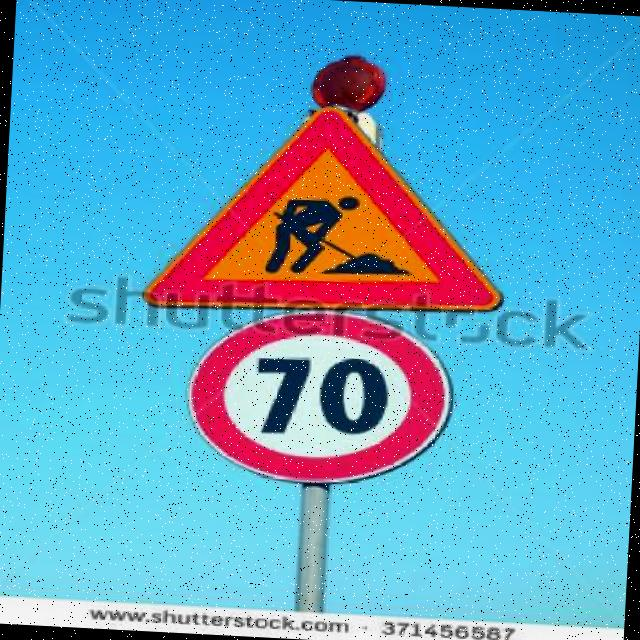Ograniczenie predkosci do 70: (185, 310, 453, 484)
